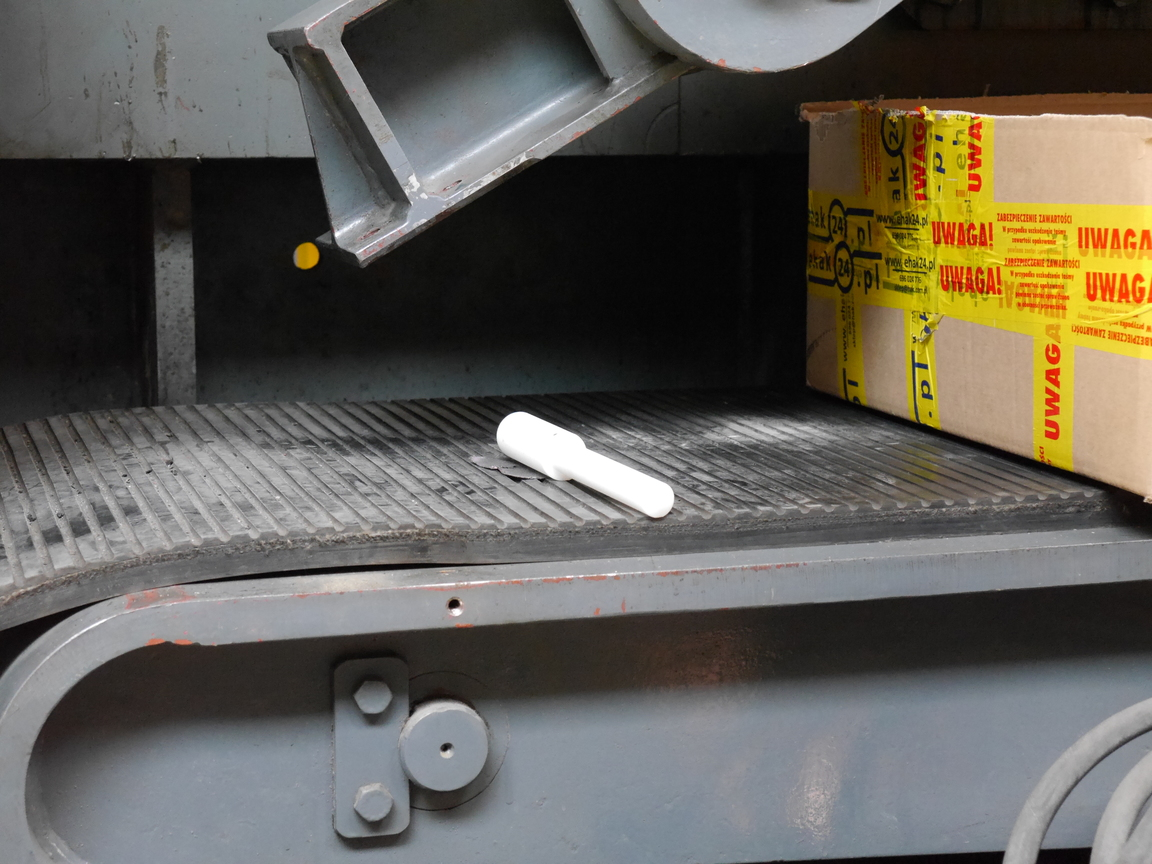cargo_g: (495, 409, 674, 521)
